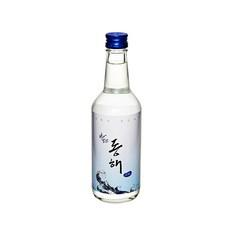soju: (90, 31, 143, 203)
